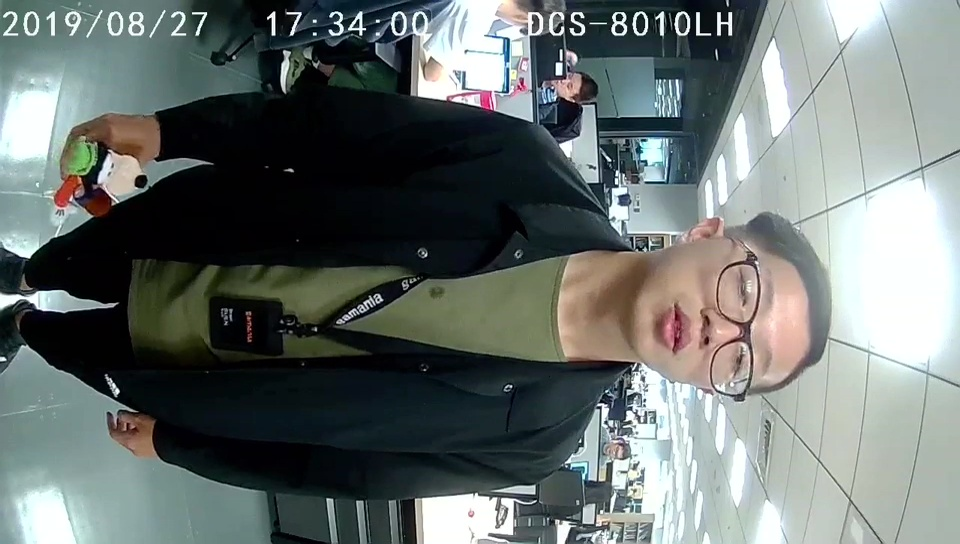goofy: (49, 136, 143, 226)
